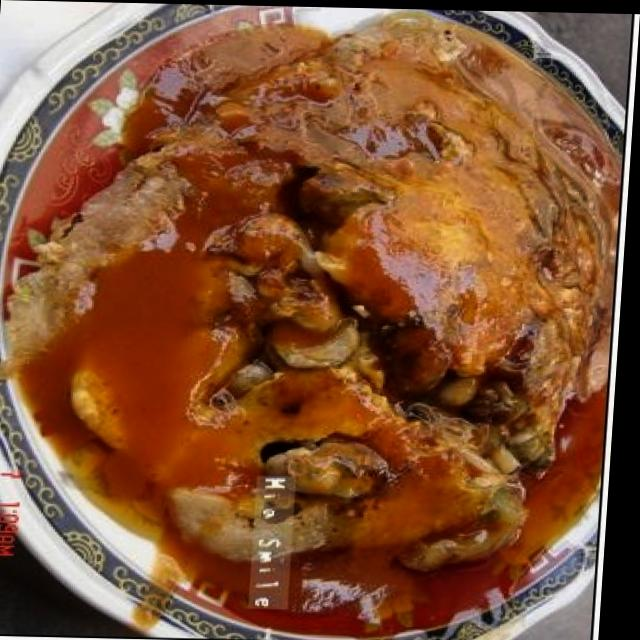熟制海鲜: (0, 0, 623, 598)
